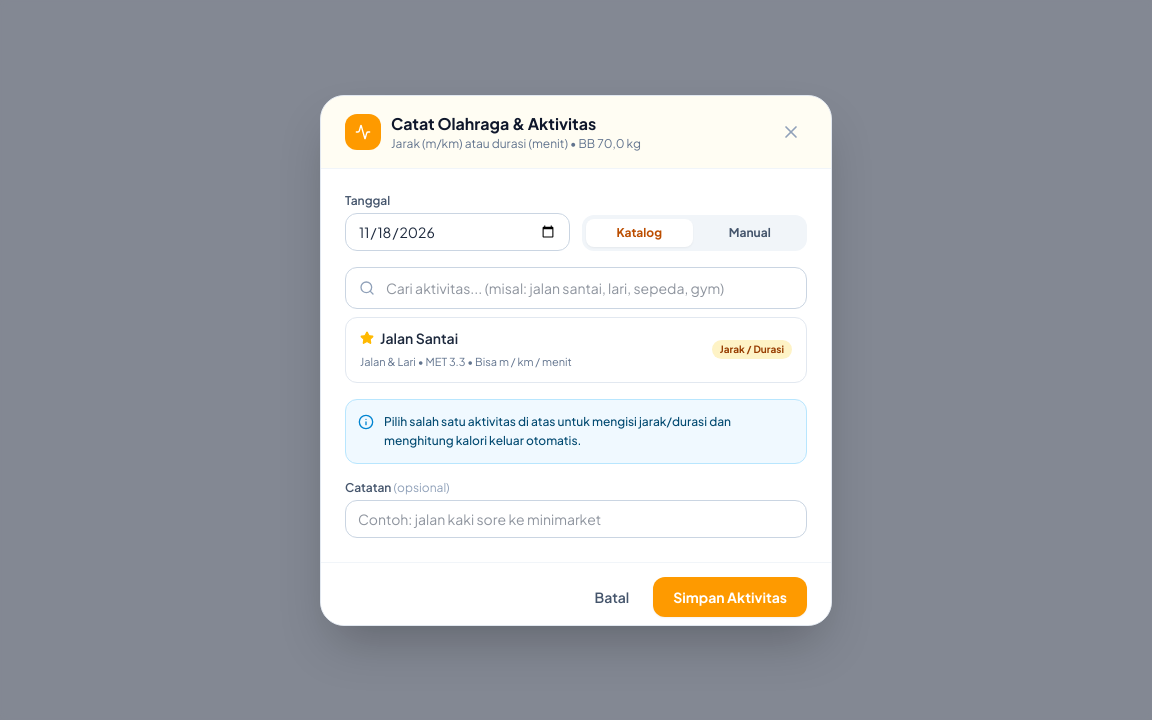
KaloriKu UI flows › auto-calculates 27 kkal in ActivityLogModal for Jalan Santai 500 m at 70 kg
This screenshot has width=1152, height=720.
Click the text "Jalan Santai": (419, 338) top-left (380, 328), bottom-right (458, 348)
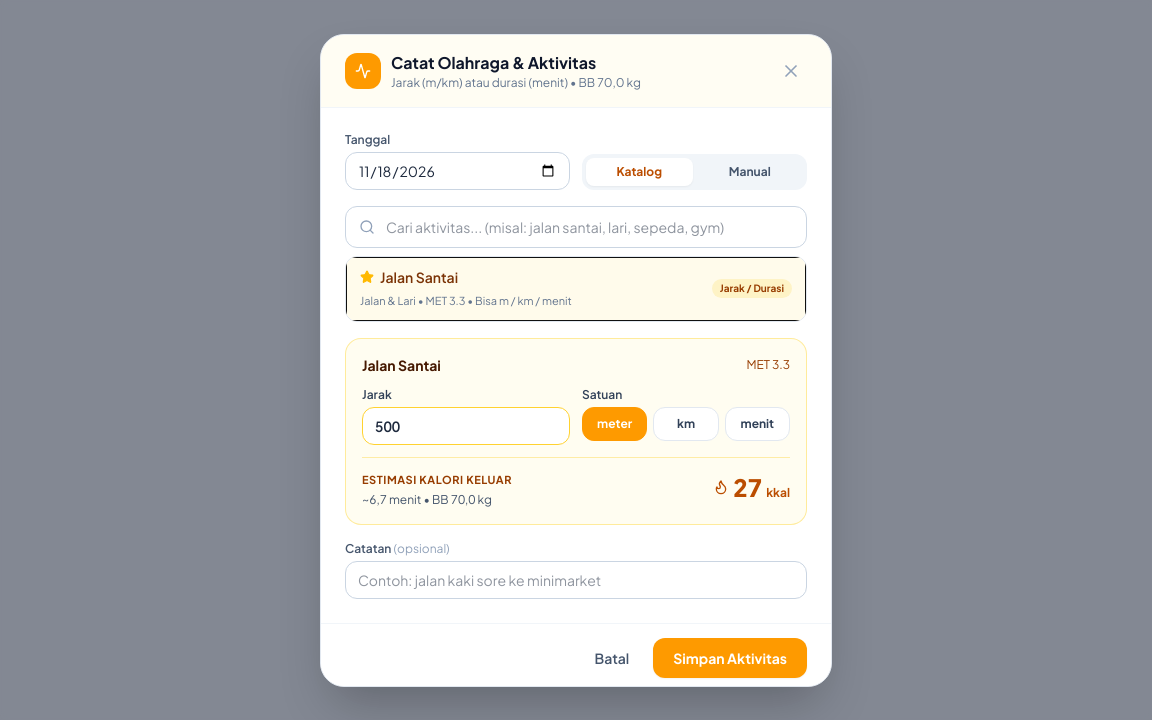
Clear the field labelled "Jarak": (466, 426) top-left (362, 406), bottom-right (570, 444)
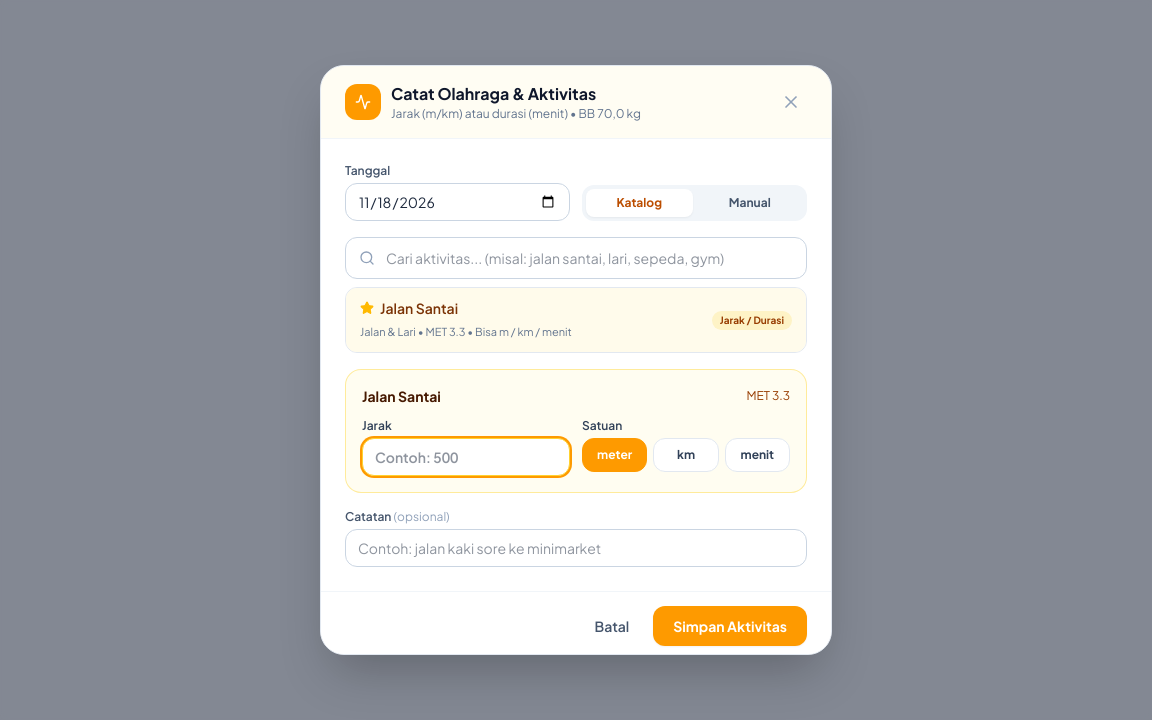
In the field labelled "Jarak": (466, 457) top-left (362, 438), bottom-right (570, 476), type "500"
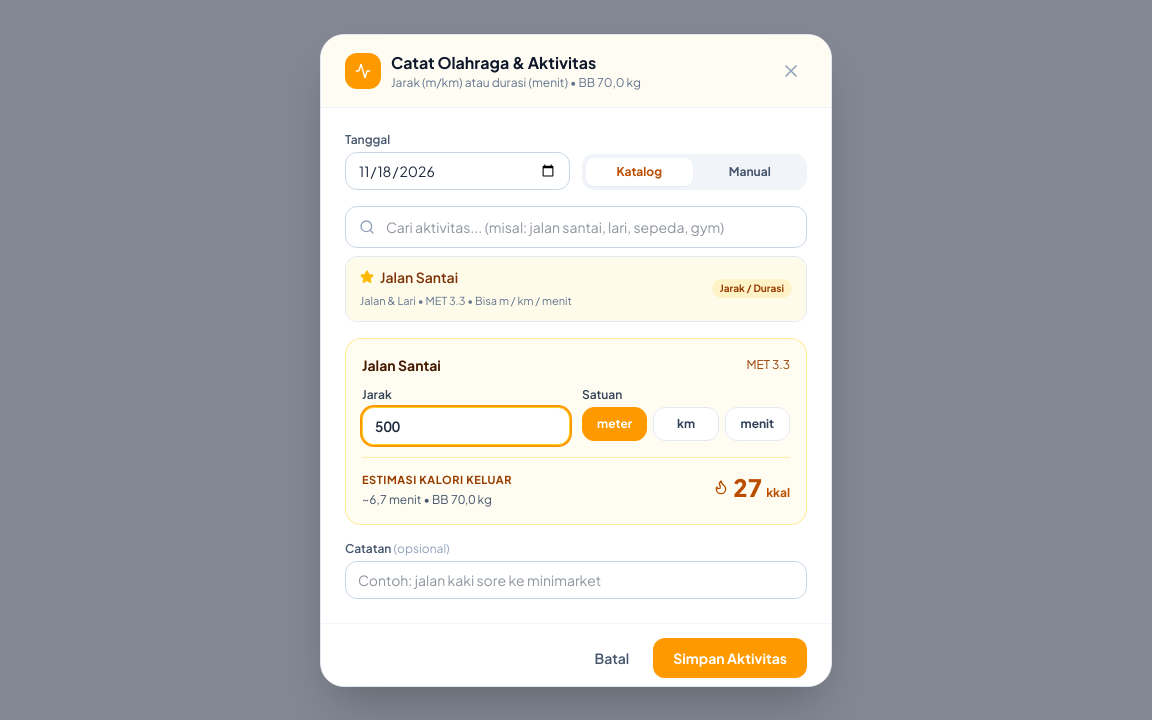
Now the text "27" is shown, box top-left (733, 470), bottom-right (762, 502)
